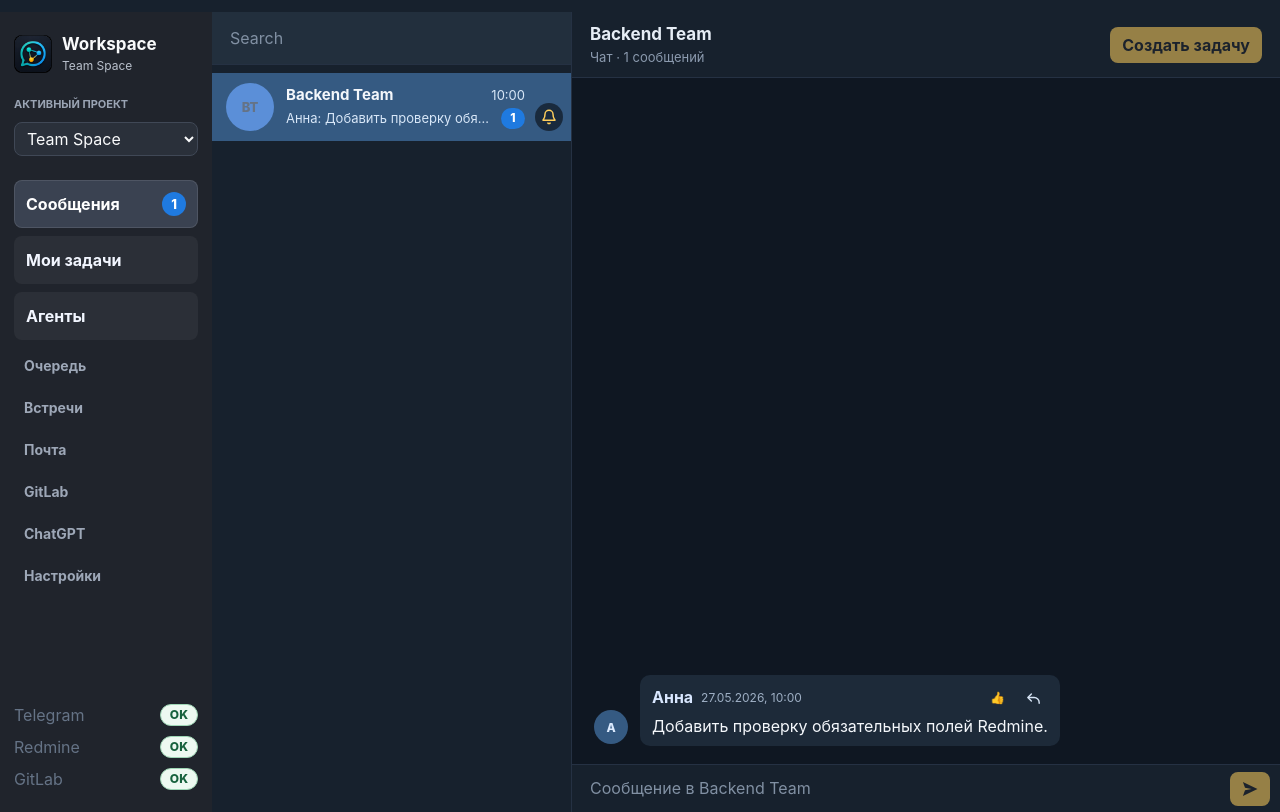
Test case: App › adds a thumbs up reaction to a Telegram message
Check: the heading "Backend Team" is shown, box [590,24,712,46]
Check: the text "Добавить проверку обязательных полей Redmine." is shown, box [652,716,1048,736]
Click the button named "Поставить палец вверх" at point(997, 697), box [983,683,1012,711]
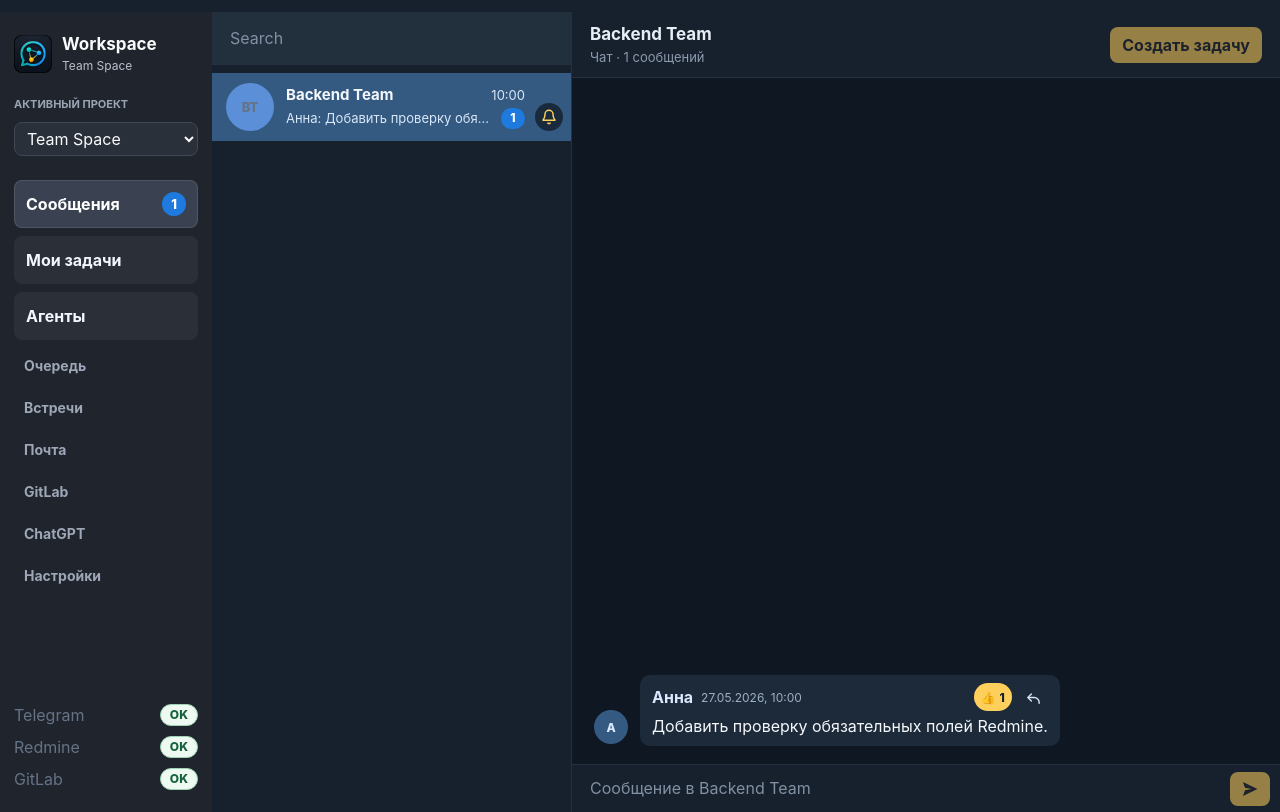
Check: the button named "Поставить палец вверх" shows "1", box [974,683,1012,711]
